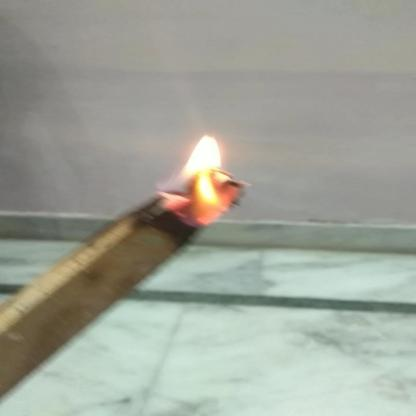fire: (153, 131, 247, 230)
